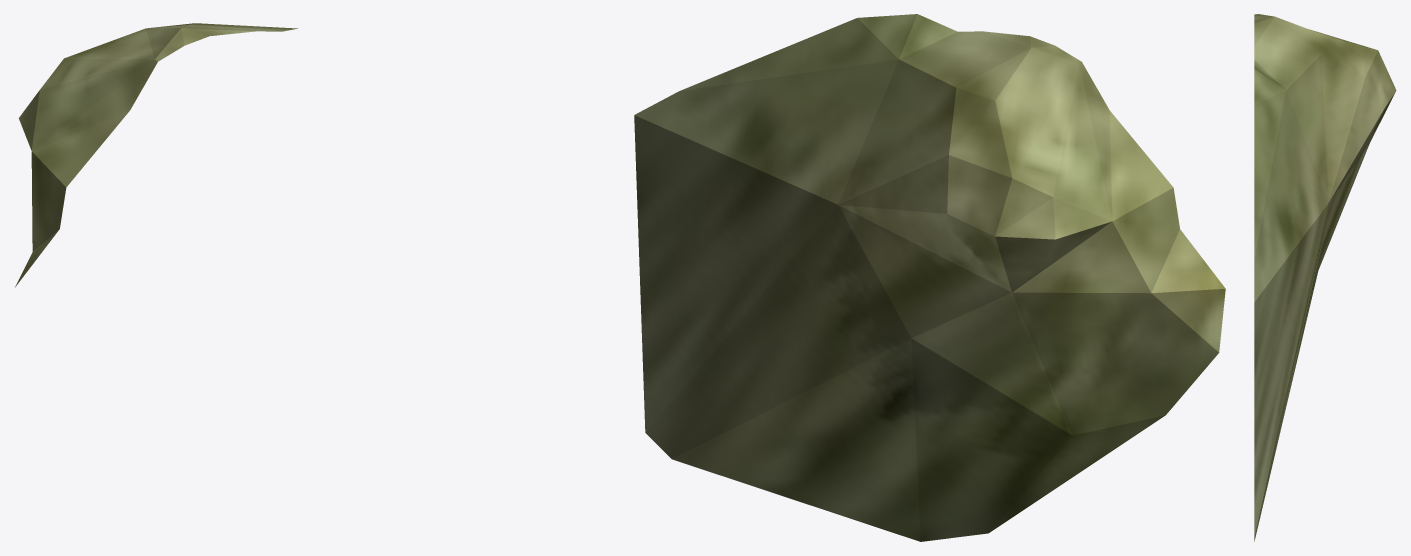
The picture shows the model from 3 angles, left to right: view 1: azimuth 30°, elevation 25°; view 2: azimuth 150°, elevation 25°; view 3: azimuth 270°, elevation 25°; orthographic projection. The views are drawn at different scales.
Bounding box in the file's own units: 1.01 × 0.8733 × 0.2782.
Materials: 1 (1 with a texture image).
